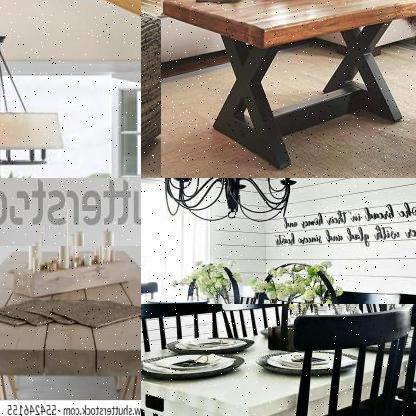table: (159, 0, 415, 177), (141, 304, 415, 415), (0, 246, 140, 402)
